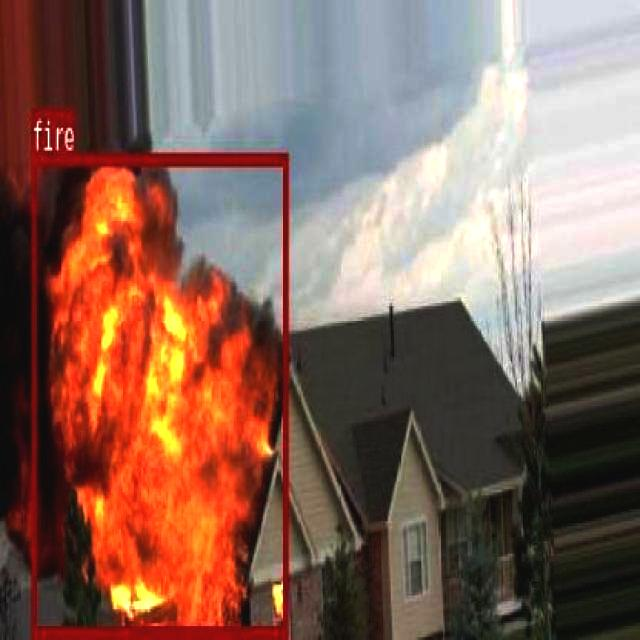fire: (30, 152, 286, 634)
